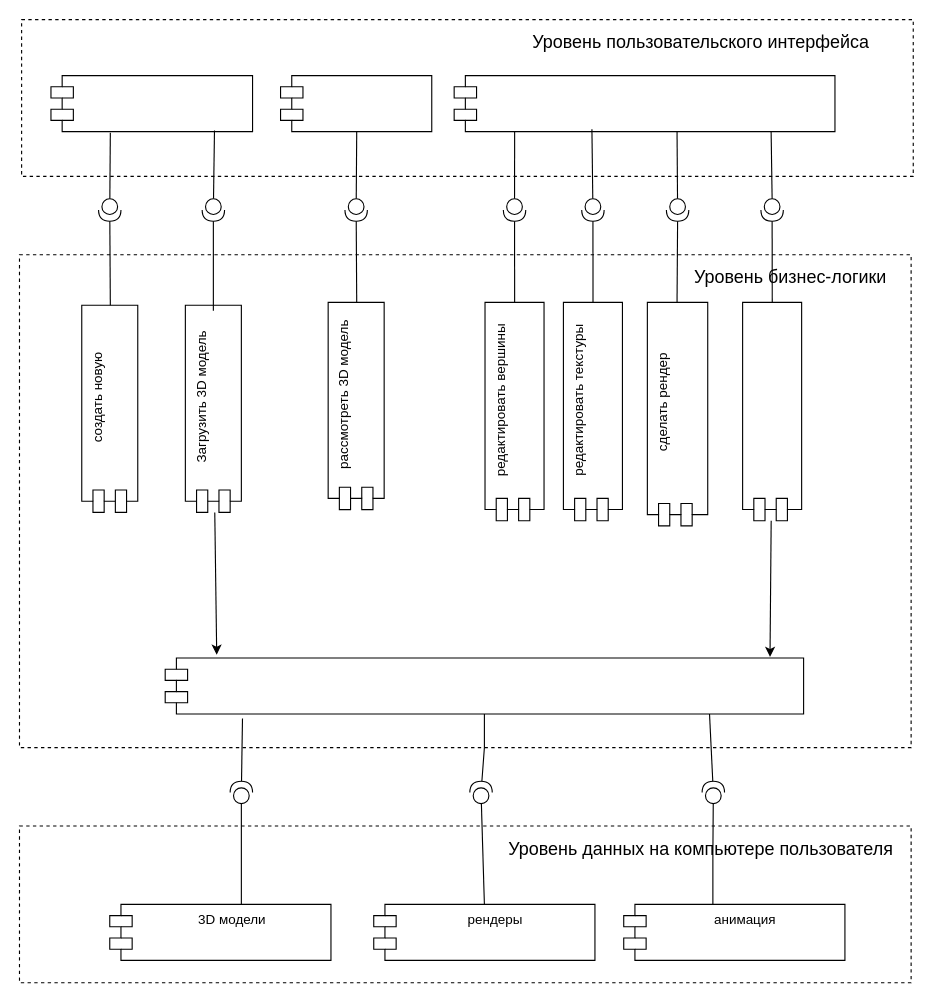
Some shapes in this 933 by 1002 pixel diagram are drawn without their labels. Here are the shapes that lost their labels. From the top down, the box of each, then its label:
(50, 74, 253, 132): Панель загрузки
(279, 74, 432, 132): блок просмотра
(453, 74, 835, 132): блок редактирования
(742, 301, 802, 521): сохранить рендер
(164, 657, 804, 714): FilesController
